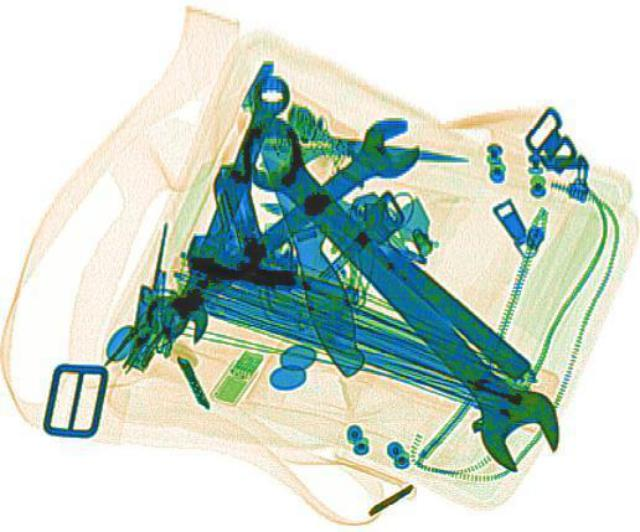Gun: (173, 160, 394, 310)
Knife: (302, 177, 534, 379), (233, 90, 379, 379), (276, 102, 476, 179)
Wrench: (213, 105, 583, 473), (126, 107, 438, 344), (143, 70, 304, 347)
